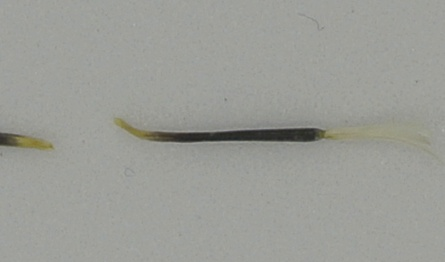เมล็ดดีเรียวยาว: (112, 113, 442, 164)
